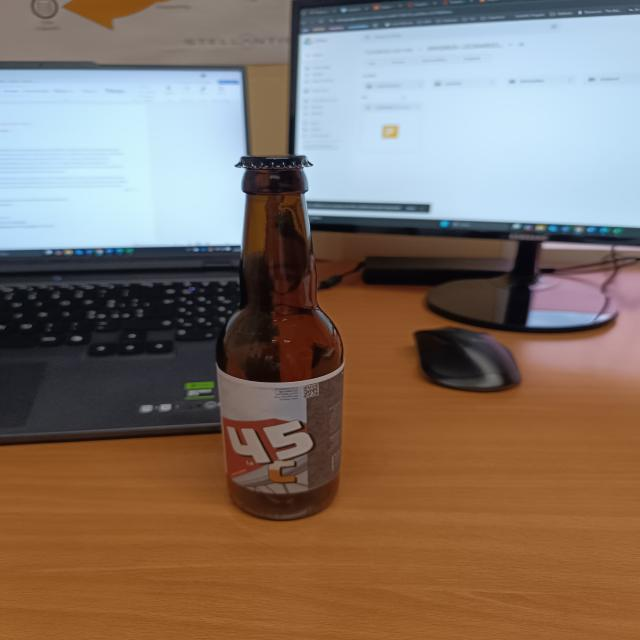Bottle: (216, 154, 343, 521)
Cap: (233, 152, 318, 171)
Label: (215, 371, 342, 493)
